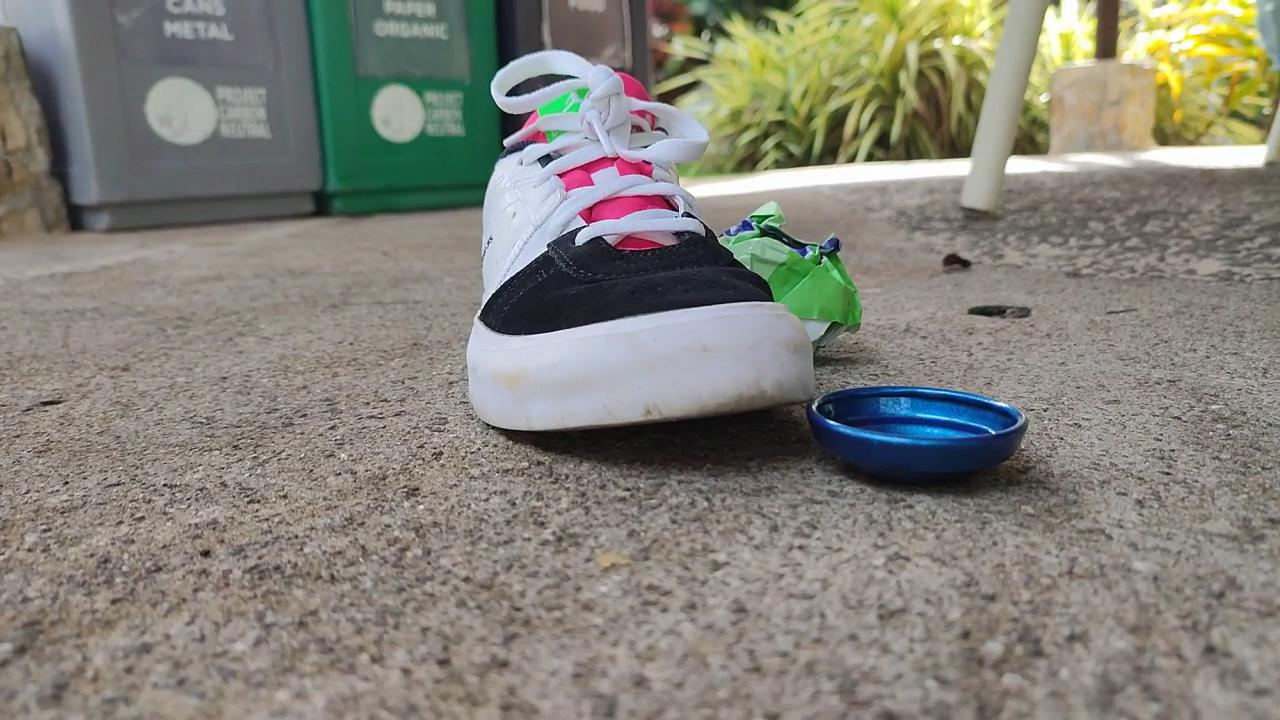Paper: (701, 168, 867, 361)
